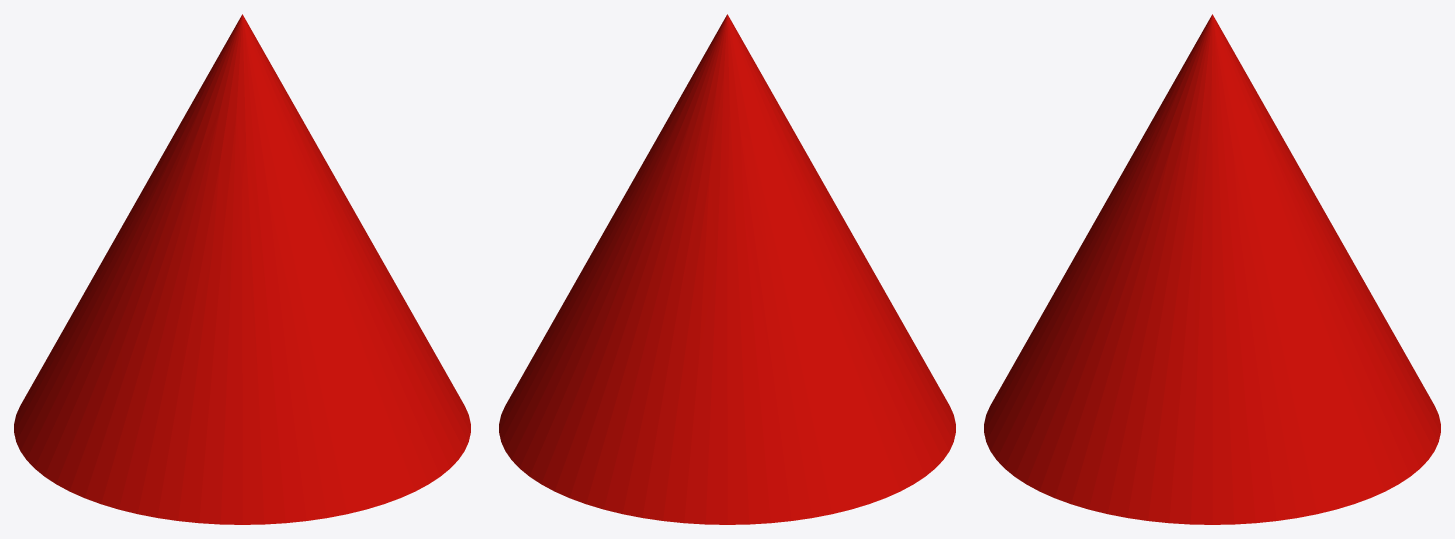
3 renders of one model, left to right at view 1: azimuth 30°, elevation 25°; view 2: azimuth 150°, elevation 25°; view 3: azimuth 270°, elevation 25°, orthographic.
Parts seen in each view (by area): view 1: 円錐; view 2: 円錐; view 3: 円錐.
Part boxes in pixels (x1,y1,x2,y2): 円錐: [14, 14, 470, 524]; 円錐: [499, 14, 955, 524]; 円錐: [984, 14, 1440, 524].
Bounding box in the file's own units: 1 × 1 × 0.9989.
